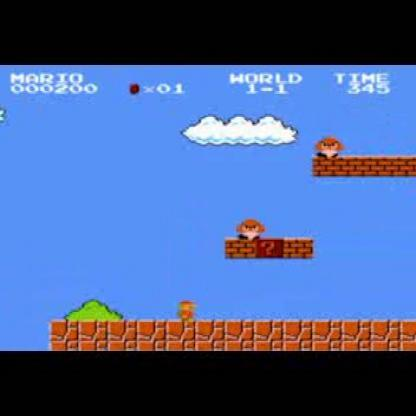Goomba: (230, 215, 266, 242), (316, 133, 344, 161)
Hoyo: (0, 318, 55, 352)
